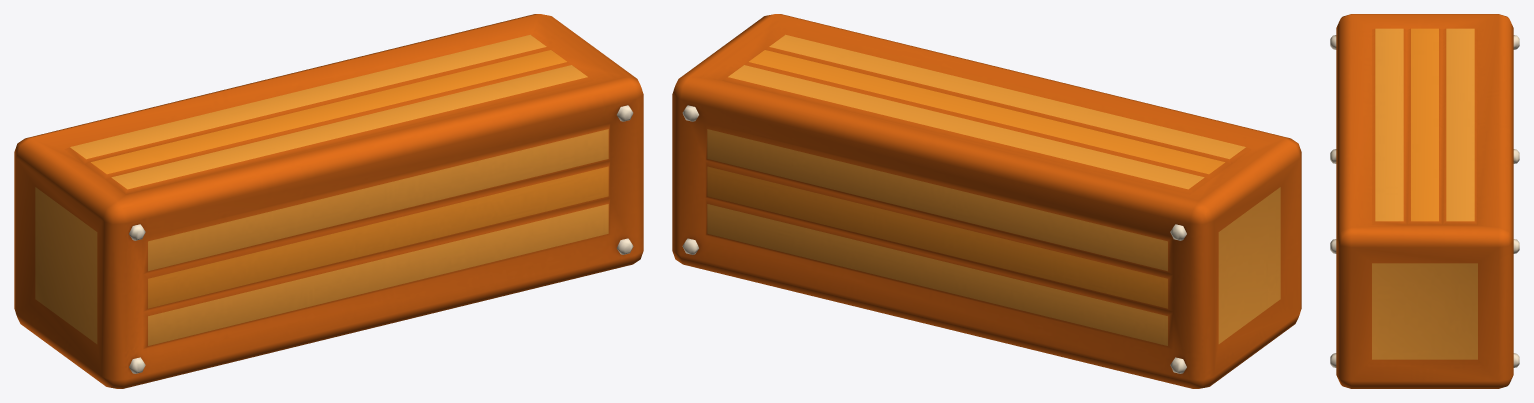
The model's file is pl_kalas.glb.
3 views of the same model, side by side, from view 1: azimuth 30°, elevation 25°; view 2: azimuth 150°, elevation 25°; view 3: azimuth 270°, elevation 25° (orthographic). The views are drawn at different scales.
Parts seen in each view (by area): view 1: pl_kalas; view 2: pl_kalas; view 3: pl_kalas.
Part boxes in pixels (<box>): pl_kalas: <box>14,14,643,388</box>; pl_kalas: <box>672,14,1301,388</box>; pl_kalas: <box>1330,14,1519,388</box>.
Bounding box in the file's own units: 4.64 × 1.54 × 1.64.
1 material, 1 textured.
